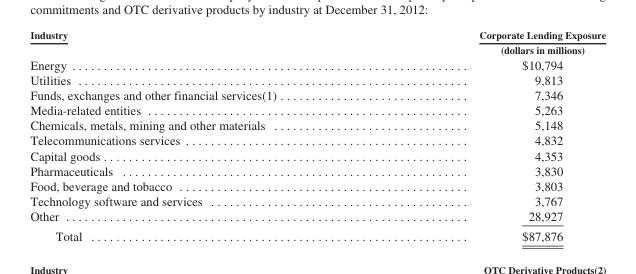table: (29, 28, 605, 243)
table column: (29, 28, 377, 243), (377, 28, 605, 243)
table column header: (29, 28, 605, 56)
table row: (29, 28, 605, 56), (29, 225, 605, 243), (29, 208, 605, 225), (29, 71, 605, 87), (29, 177, 605, 193), (29, 56, 605, 71), (29, 87, 605, 102), (29, 102, 605, 117), (29, 117, 605, 132), (29, 132, 605, 147), (29, 147, 605, 162), (29, 162, 605, 177), (29, 193, 605, 208)
